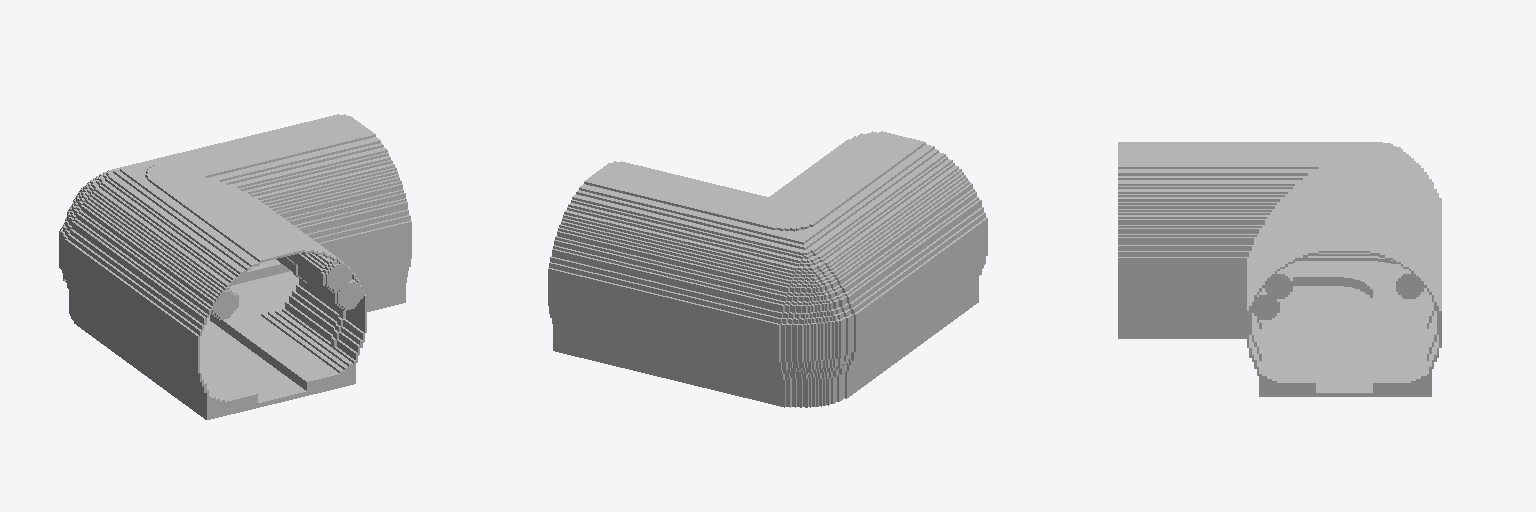
File: SewerCorner pipes not done.obj
The picture shows the model from 3 angles: view 1: azimuth 30°, elevation 25°; view 2: azimuth 150°, elevation 25°; view 3: azimuth 270°, elevation 25°; orthographic projection.
Bounding box in the file's own units: 125 × 63 × 126.